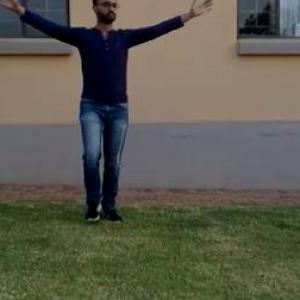takeoff: (5, 0, 201, 213)
